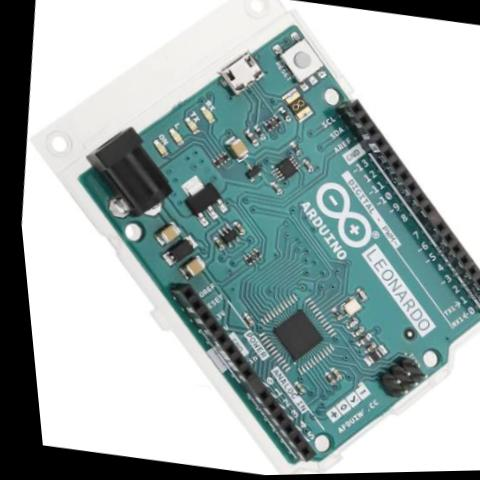Arduino-Leonardo: (11, 0, 480, 480)
